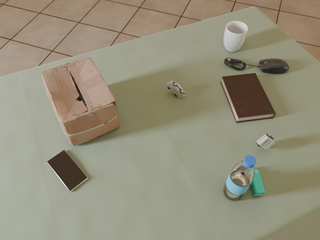book: (221, 73, 276, 123)
bottle: (223, 155, 256, 201)
box: (42, 58, 119, 146)
cup: (224, 21, 248, 52)
mouse: (256, 59, 289, 74)
phone: (47, 150, 88, 192)
toy_car: (250, 167, 265, 196), (166, 81, 185, 98), (256, 134, 274, 149)
